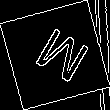M_SW: (22, 22, 88, 88)
